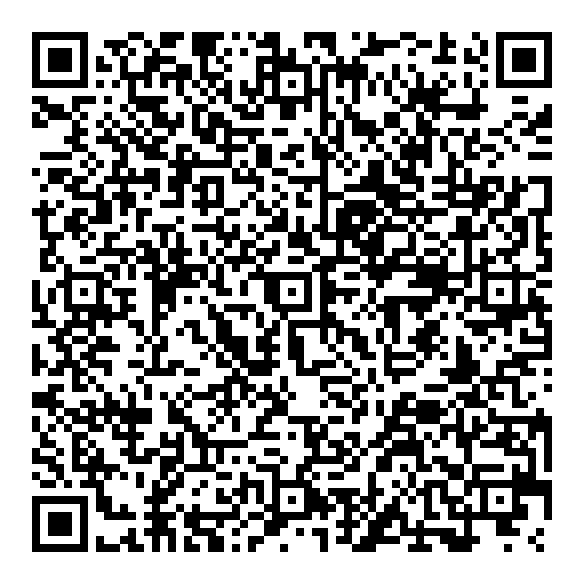QR_CODE: (20, 18, 566, 567)
